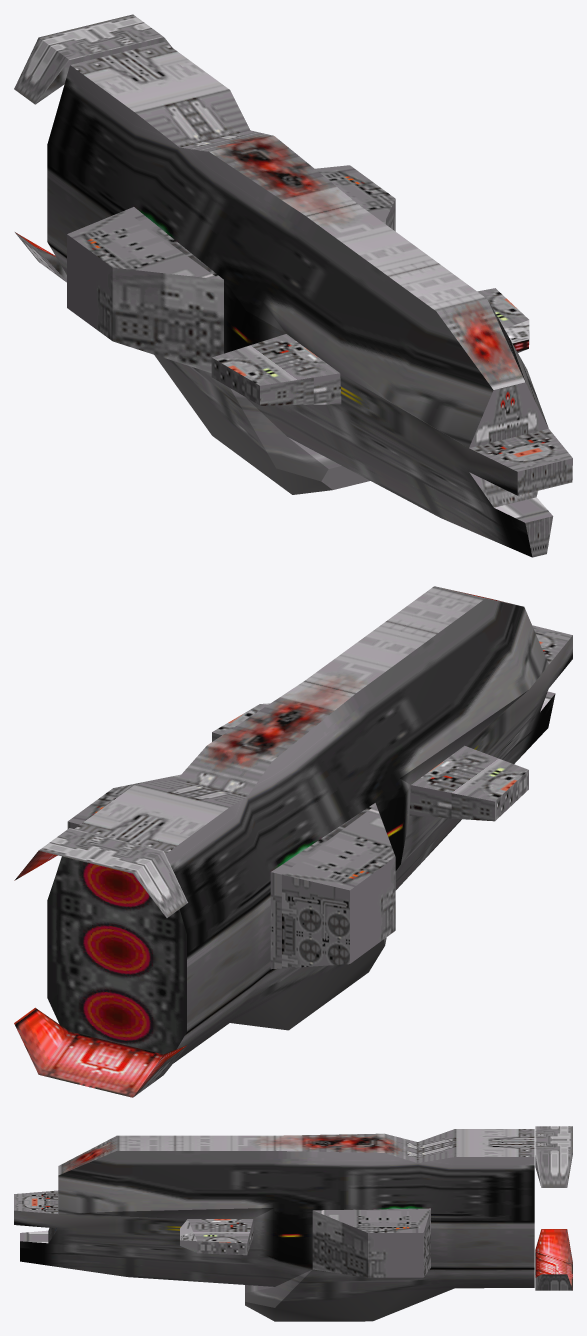
The picture shows the model from 3 angles, top to bottom: view 1: azimuth 30°, elevation 25°; view 2: azimuth 150°, elevation 25°; view 3: azimuth 270°, elevation 25°; orthographic projection. The views are drawn at different scales.
Visible parts, largest first — view 1: page0, top, shoulder_sides, shoulder_tops, nose_front, flap_tops, turretbase, nose_turret_bases, ear_fronts, ear_tips, chin_top; view 2: page0, engine_port, top, flap_bots, shoulder_back, shoulder_tops, flap_tops, turretbase, shoulder_sides, ear_fronts, nose_turret_bases, ear_tips; view 3: page0, top, shoulder_sides, flap_tops, shoulder_tops, flap_bots, turretbase, nose_turret_bases, ear_tips, shoulder_back, chin_top.
Boxes of the visible parts, x1=… form: page0: x1=47, y1=65, x2=548, y2=557; top: x1=70, y1=42, x2=524, y2=389; shoulder_sides: x1=67, y1=199, x2=395, y2=372; shoulder_tops: x1=67, y1=165, x2=395, y2=279; nose_front: x1=469, y1=382, x2=572, y2=557; flap_tops: x1=14, y1=14, x2=163, y2=282; turretbase: x1=212, y1=288, x2=528, y2=385; nose_turret_bases: x1=35, y1=37, x2=572, y2=471; ear_fronts: x1=260, y1=373, x2=341, y2=405; ear_tips: x1=211, y1=358, x2=259, y2=405; chin_top: x1=494, y1=497, x2=552, y2=522; page0: x1=165, y1=598, x2=572, y2=1063; engine_port: x1=47, y1=856, x2=186, y2=1054; top: x1=74, y1=586, x2=518, y2=853; flap_bots: x1=14, y1=850, x2=186, y2=1097; shoulder_back: x1=67, y1=821, x2=349, y2=969; shoulder_tops: x1=68, y1=774, x2=395, y2=890; flap_tops: x1=39, y1=828, x2=187, y2=1096; turretbase: x1=212, y1=704, x2=528, y2=801; shoulder_sides: x1=350, y1=857, x2=395, y2=963; ear_fronts: x1=212, y1=732, x2=494, y2=821; nose_turret_bases: x1=532, y1=625, x2=572, y2=664; ear_tips: x1=495, y1=770, x2=528, y2=820; page0: x1=14, y1=1151, x2=534, y2=1321; top: x1=58, y1=1129, x2=534, y2=1175; shoulder_sides: x1=312, y1=1210, x2=423, y2=1277; flap_tops: x1=535, y1=1126, x2=572, y2=1290; shoulder_tops: x1=313, y1=1208, x2=430, y2=1232; flap_bots: x1=535, y1=1229, x2=572, y2=1289; turretbase: x1=188, y1=1219, x2=252, y2=1243; nose_turret_bases: x1=14, y1=1155, x2=540, y2=1289; ear_tips: x1=197, y1=1241, x2=247, y2=1255; shoulder_back: x1=423, y1=1209, x2=430, y2=1276; chin_top: x1=20, y1=1230, x2=48, y2=1243.
Size of the model in its own units: 200 by 189 by 563.
